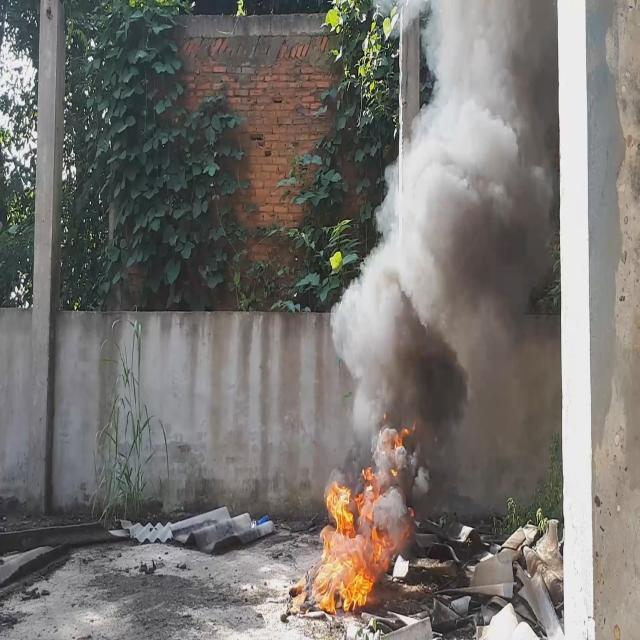Fire: (311, 469, 416, 606)
Smoke: (331, 0, 558, 531)
